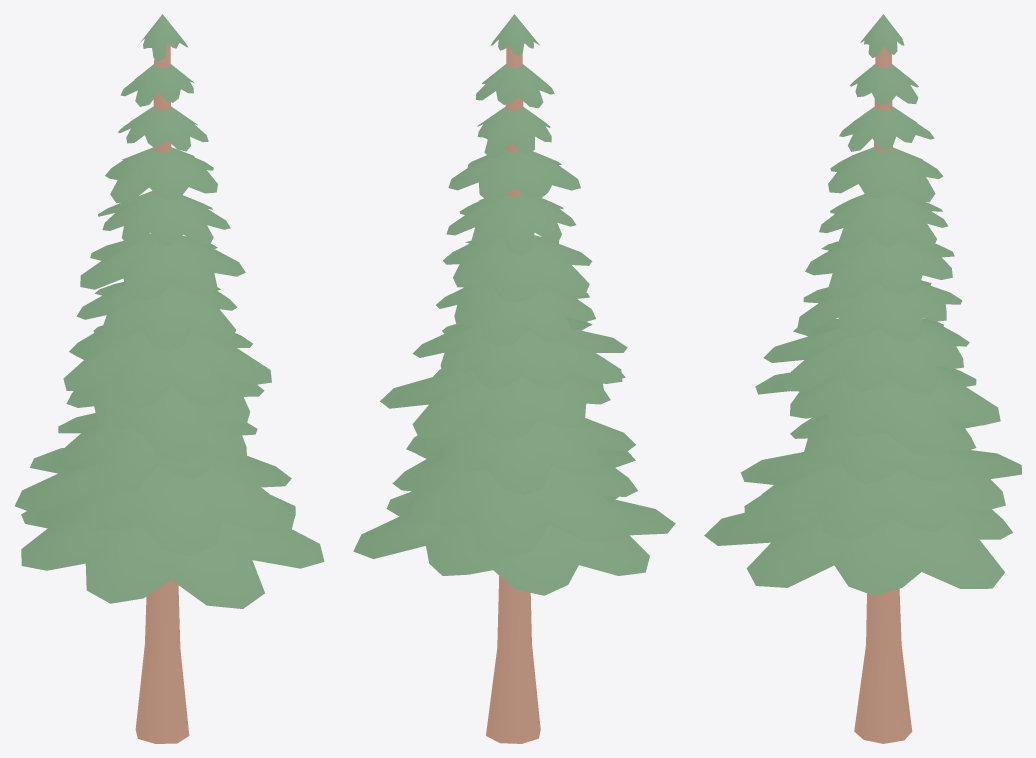
File: Blender_Fir_2.glb
3 renders of one model, left to right at view 1: azimuth 30°, elevation 25°; view 2: azimuth 150°, elevation 25°; view 3: azimuth 270°, elevation 25°, orthographic.
Parts seen in each view (by area): view 1: Blender_Fir_2; view 2: Blender_Fir_2; view 3: Blender_Fir_2.
Part boxes in pixels (bbox=[...]): Blender_Fir_2: bbox=[15, 14, 324, 743]; Blender_Fir_2: bbox=[353, 14, 675, 743]; Blender_Fir_2: bbox=[704, 14, 1021, 743].
Size of the model in its own units: 20.83 by 54.07 by 21.71.
